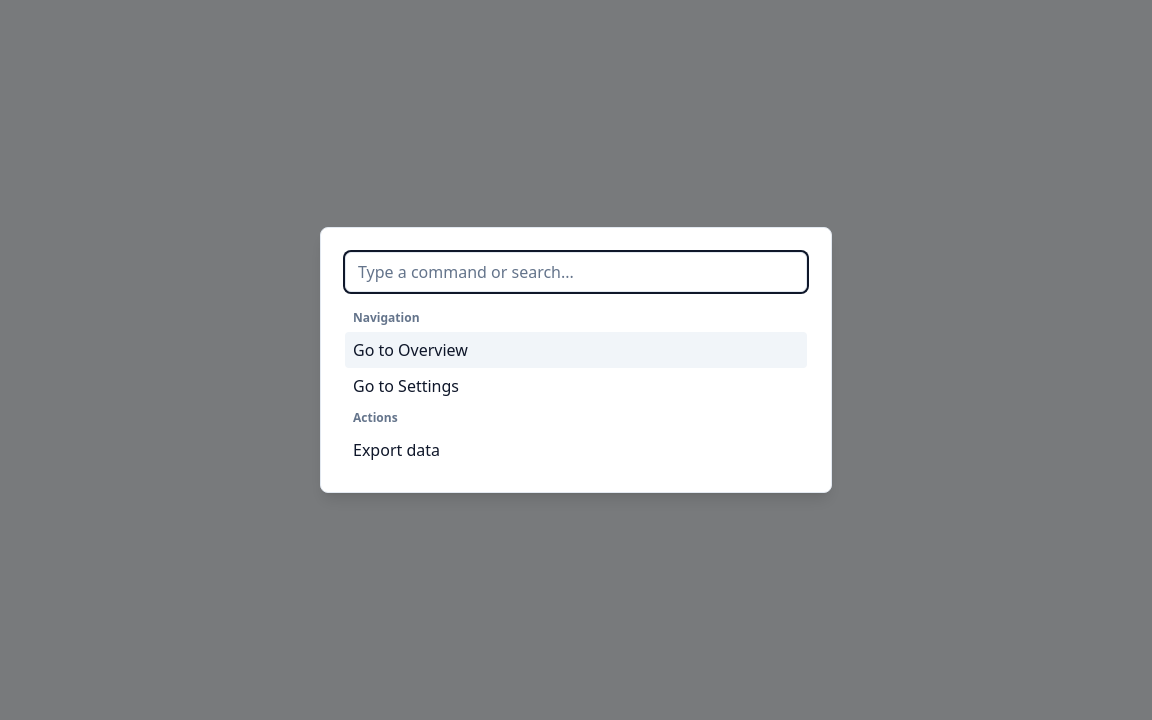
Test: <CommandPalette> › filters as the user types
This screenshot has width=1152, height=720.
In the dropdown: (576, 272) [345,252,807,292], type "settings"
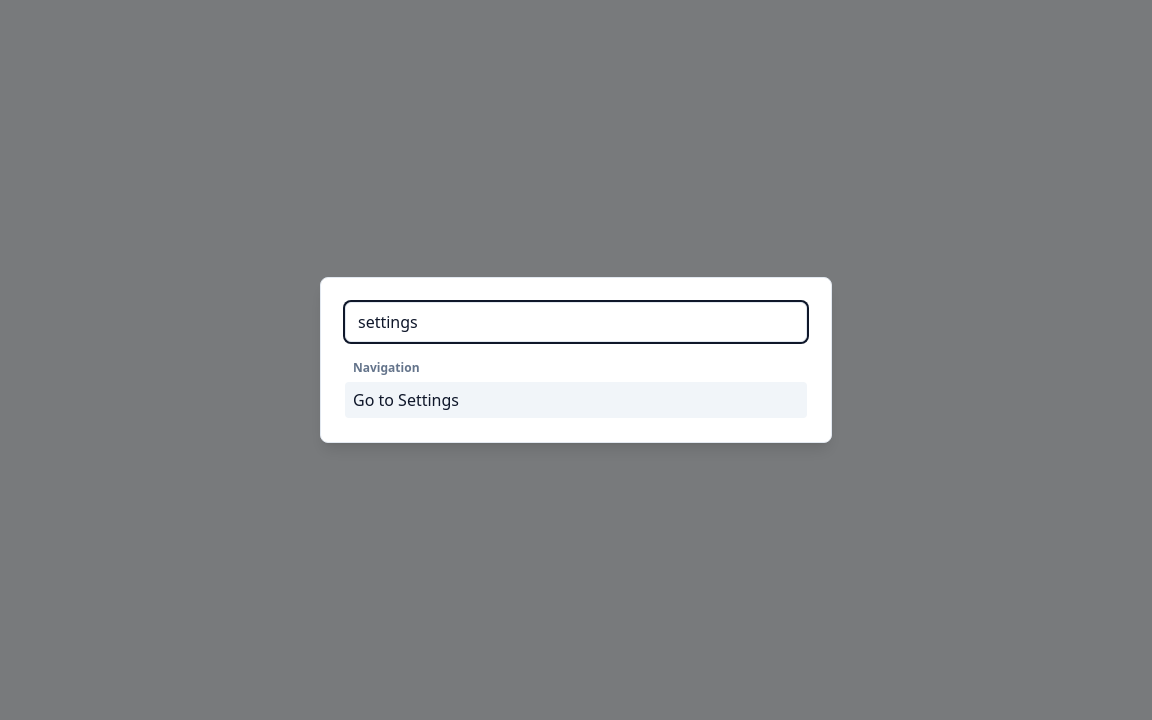
Expected: the option reads "Go to Settings", [345,382,807,418]
Now the number of options is 1, box [345,382,807,418]
